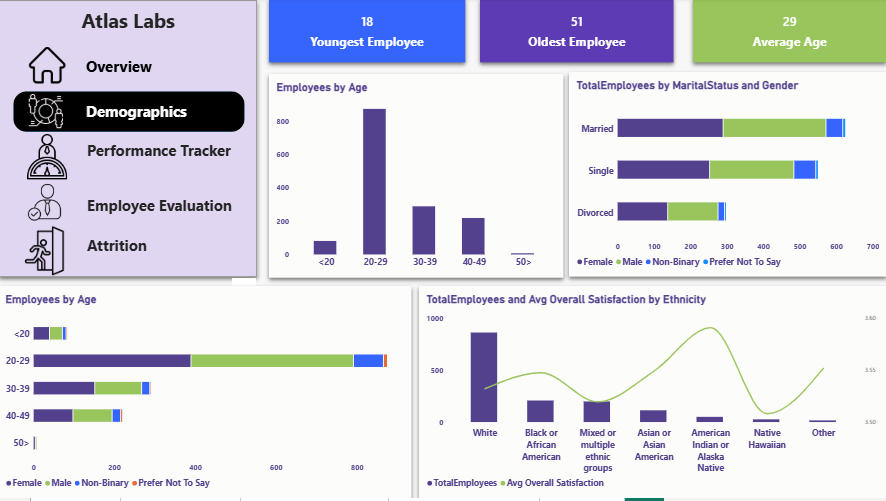

This screenshot's page, from the dashboard's own definition file:
{"tool":"powerbi","page":{"name":"Demographics","canvas":[1920,1080],"ordinal":1},"visuals":[{"type":"card","fields":{"Values":["_Measures.Youngest Employee"]},"box":[584.6,0,423.7,139.4],"z":0},{"type":"textbox","title":"Atlas Labe","box":[2.7,5.4,557.8,598],"z":1000},{"type":"card","fields":{"Values":["_Measures.Oldest Employee"]},"box":[1040.4,0,418.3,139.4],"z":2000},{"type":"image","box":[35.7,106,138.1,79.1],"z":3000},{"type":"card","fields":{"Values":["_Measures.Average Age"]},"box":[1501.7,0,418.3,139.4],"z":4000},{"type":"shape","box":[33.3,200.5,500.8,88.7],"z":5000},{"type":"clusteredColumnChart","title":"Employees by Age","fields":{"Category":["DimEmployee.AgeBins"],"Y":["_Measures.TotalEmployees"]},"box":[584.6,163.6,635.5,439.8],"z":6000},{"type":"textbox","box":[189.9,126.2,226.7,299.6],"z":7000},{"type":"barChart","title":"Employees by Age","fields":{"Category":["DimEmployee.AgeBins"],"Series":["DimEmployee.Gender"],"Y":["_Measures.TotalEmployees"]},"box":[0,621.5,893,458.5],"z":8000},{"type":"image","box":[21.9,293.9,168.9,98.2],"z":9000},{"type":"image","box":[28.3,487.3,143.3,116],"z":10000},{"type":"barChart","fields":{"Category":["DimEmployee.MaritalStatus"],"Series":["DimEmployee.Gender"],"Y":["_Measures.TotalEmployees"]},"box":[1233.5,160.9,686.5,442.5],"z":11000},{"type":"image","box":[57.7,395.1,84.4,92.2],"z":12000},{"type":"lineStackedColumnComboChart","fields":{"Category":["DimEmployee.Ethnicity"],"Y":["_Measures.TotalEmployees"],"Y2":["_Measures.Avg Overall Satisfaction"]},"box":[909.1,622.1,1010.9,458.5],"z":13000},{"type":"textbox","box":[189.9,222.1,340.1,325.9],"z":14000},{"type":"textbox","box":[192,305.8,342.8,181.5],"z":15000},{"type":"textbox","box":[192,424.8,368.4,122],"z":16000},{"type":"textbox","box":[192,511.1,322.4,92.2],"z":17000},{"type":"image","box":[58,207.8,90.7,74.3],"z":18000}]}

Visuals, with their boxes on the page's 1920x1080 design canvas (x1, y1, x2, y2). These are canvas units, not pixel positions in the 886x501 screenshot, which may show the page scaled, cropped or inside an application window:
card - _Measures.Youngest Employee: bbox=(585, 0, 1008, 139)
"Atlas Labe" textbox: bbox=(3, 5, 560, 603)
card - _Measures.Oldest Employee: bbox=(1040, 0, 1459, 139)
image: bbox=(36, 106, 174, 185)
card - _Measures.Average Age: bbox=(1502, 0, 1920, 139)
shape: bbox=(33, 200, 534, 289)
"Employees by Age" clusteredColumnChart: bbox=(585, 164, 1220, 603)
textbox: bbox=(190, 126, 417, 426)
"Employees by Age" barChart: bbox=(0, 622, 893, 1080)
image: bbox=(22, 294, 191, 392)
image: bbox=(28, 487, 172, 603)
barChart - DimEmployee.MaritalStatus x DimEmployee.Gender: bbox=(1234, 161, 1920, 603)
image: bbox=(58, 395, 142, 487)
lineStackedColumnComboChart - DimEmployee.Ethnicity x _Measures.TotalEmployees: bbox=(909, 622, 1920, 1081)
textbox: bbox=(190, 222, 530, 548)
textbox: bbox=(192, 306, 535, 487)
textbox: bbox=(192, 425, 560, 547)
textbox: bbox=(192, 511, 514, 603)
image: bbox=(58, 208, 149, 282)
